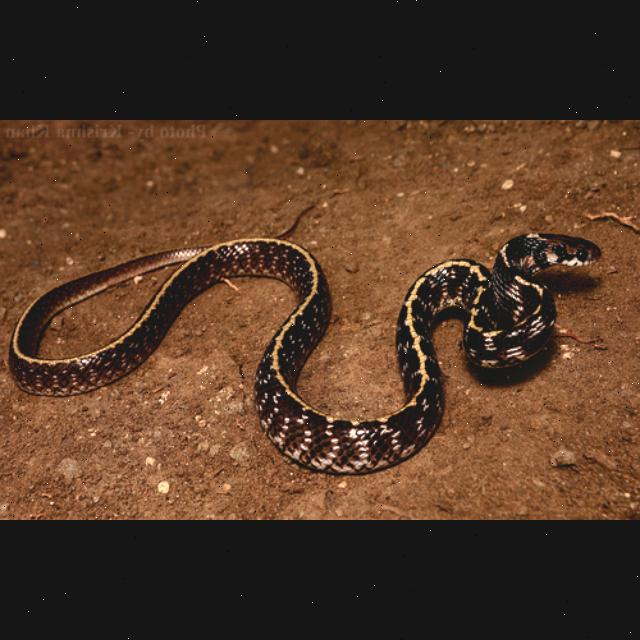snake: (11, 231, 606, 473)
